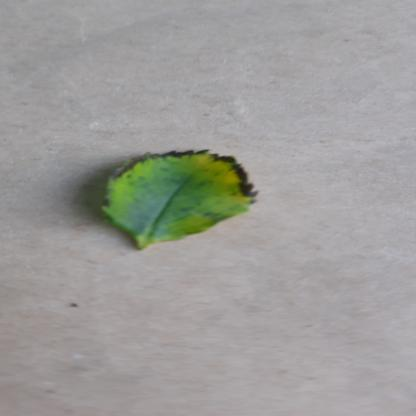black-spot: (95, 146, 273, 246)
